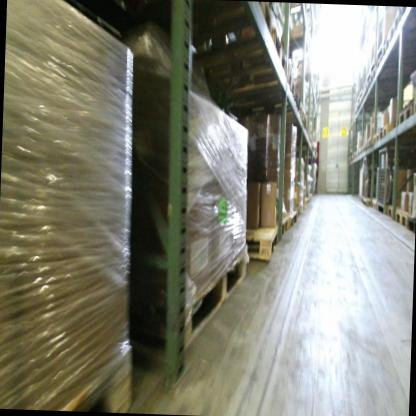pallet: (127, 241, 247, 368), (134, 0, 277, 41), (190, 25, 288, 81), (59, 347, 144, 411), (196, 53, 295, 105), (239, 223, 279, 262), (376, 46, 415, 73), (369, 63, 408, 83), (289, 25, 309, 59), (396, 95, 413, 129), (272, 213, 291, 239), (379, 123, 399, 143), (389, 14, 400, 45), (291, 85, 303, 113), (395, 208, 409, 231), (281, 211, 298, 228), (362, 78, 375, 96), (387, 202, 398, 222), (290, 203, 303, 219), (297, 102, 306, 124), (406, 214, 415, 236), (410, 91, 416, 122), (303, 112, 311, 133), (384, 37, 392, 58), (366, 133, 375, 150), (372, 131, 380, 146), (363, 196, 372, 207), (372, 196, 378, 209)
stillage: (375, 147, 414, 217), (360, 156, 376, 204)
